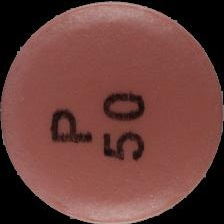35356-725: (0, 0, 224, 224)
